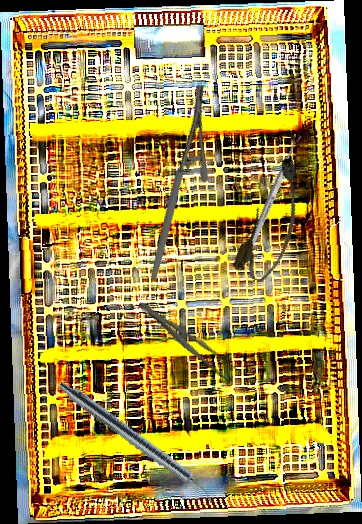Cannula: (230, 154, 318, 287)
Dressing Forceps: (132, 295, 246, 388)
Handpiece: (54, 378, 220, 506)
Needle Holder: (93, 80, 260, 283)
Surgical Spoon: (247, 133, 303, 247)
